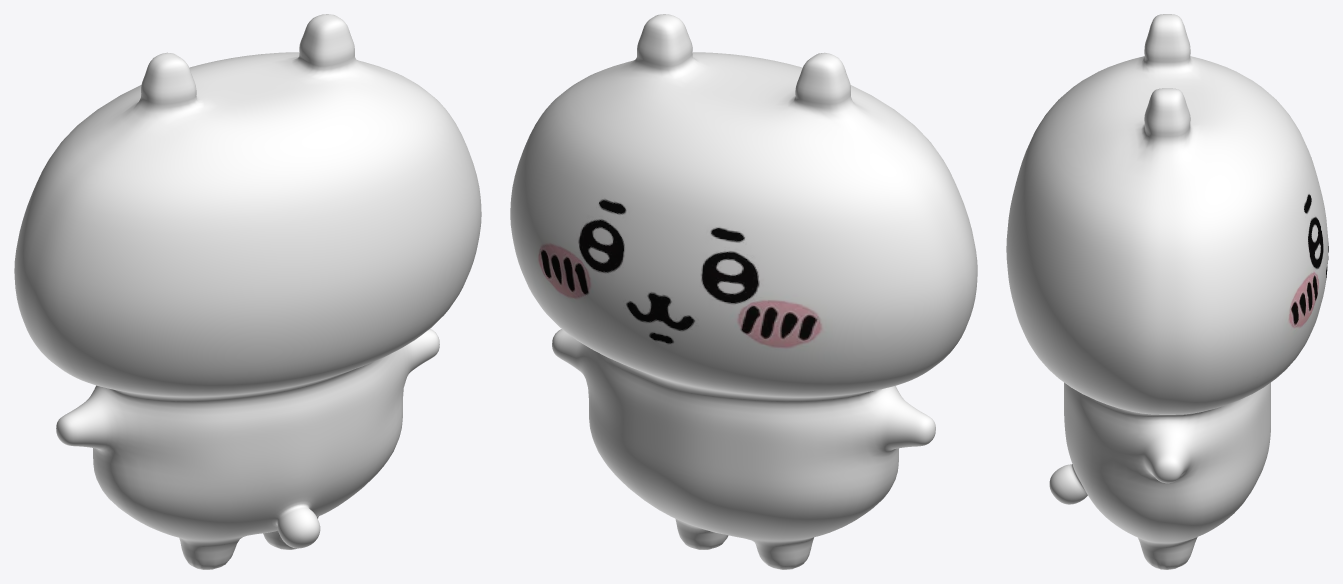
File: asset.glb
The picture shows the model from 3 angles, left to right: view 1: azimuth 30°, elevation 25°; view 2: azimuth 150°, elevation 25°; view 3: azimuth 270°, elevation 25°; orthographic projection. The views are drawn at different scales.
Visible parts, largest first — view 1: Object_2; view 2: Object_2; view 3: Object_2.
Part boxes in pixels (box(x1,y1,x2,y2)): Object_2: box(14, 14, 481, 569); Object_2: box(510, 14, 977, 569); Object_2: box(1006, 14, 1328, 569).
Size of the model in its own units: 2.98 by 3.39 by 2.
Materials: 1 (1 with a texture image).
